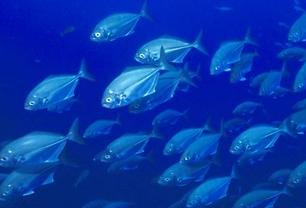Carangidae -Jacks-: (100, 43, 181, 108), (0, 114, 87, 170), (20, 57, 102, 109), (98, 117, 168, 164), (226, 109, 296, 156), (88, 0, 159, 43), (180, 161, 243, 208), (178, 117, 233, 165)
